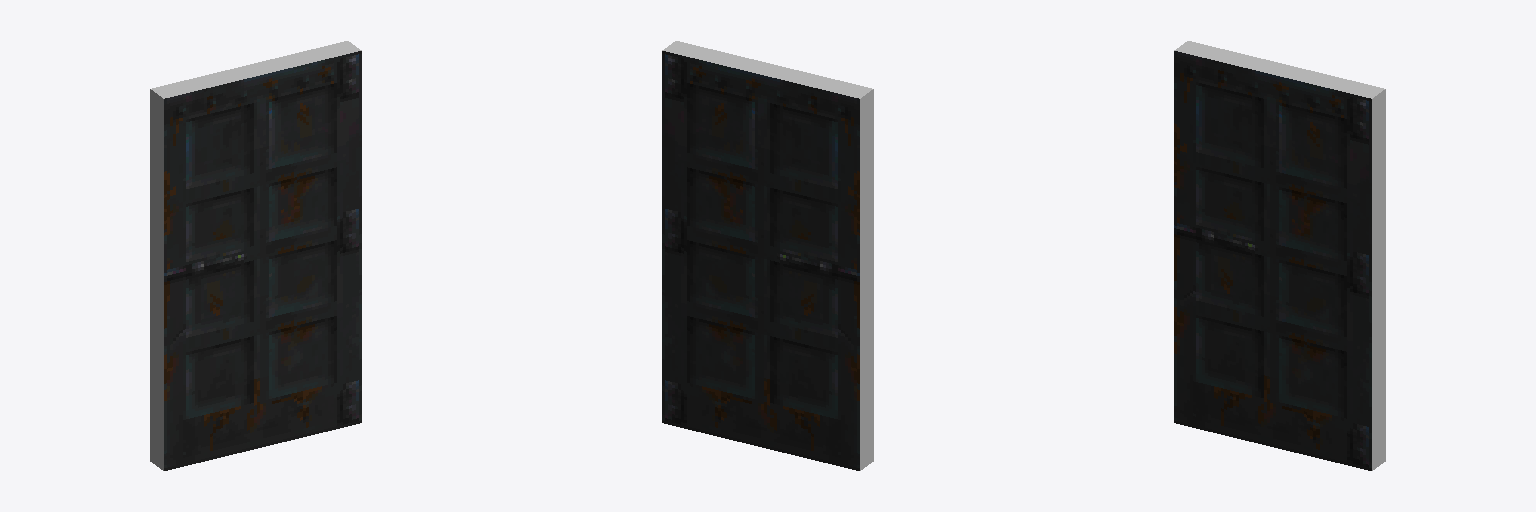
3 views of the same model, side by side, from view 1: azimuth 30°, elevation 25°; view 2: azimuth 150°, elevation 25°; view 3: azimuth 330°, elevation 25° (orthographic).
Visible parts, largest first — view 1: model9003-node_model9003.001; view 2: model9003-node_model9003.001; view 3: model9003-node_model9003.001.
Boxes of the visible parts, <box> form: model9003-node_model9003.001: <box>150,41,361,470</box>; model9003-node_model9003.001: <box>662,41,873,470</box>; model9003-node_model9003.001: <box>1174,41,1385,470</box>.
Bounding box in the file's own units: 1.25 × 2.25 × 0.15.
2 materials, 1 textured.